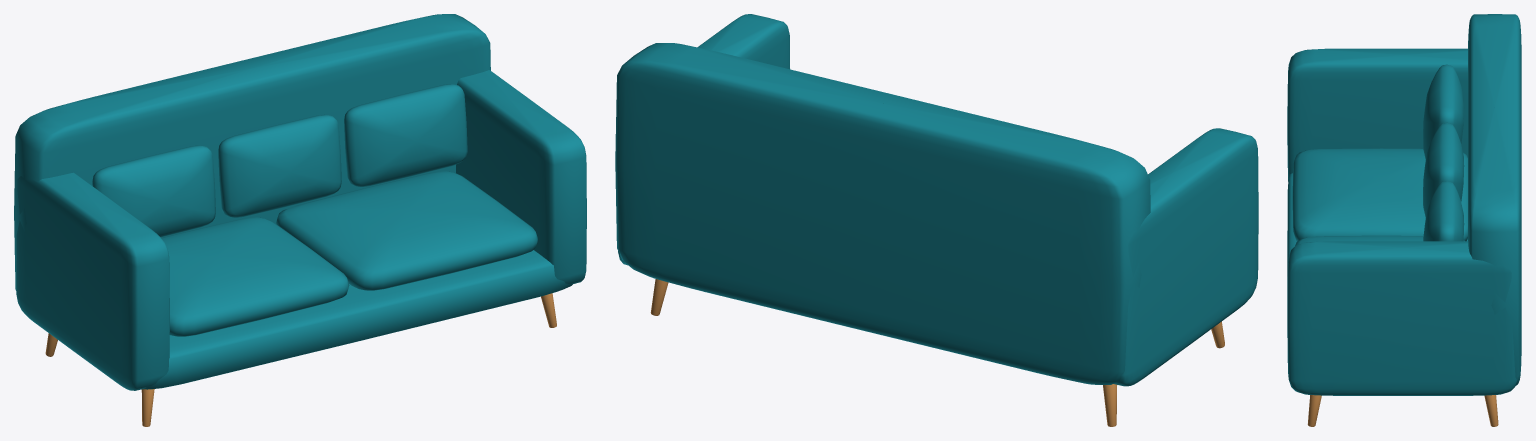
The model's file is sofa_moldura_turquesa_escuro.glb.
3 renders of one model, left to right at view 1: azimuth 30°, elevation 25°; view 2: azimuth 150°, elevation 25°; view 3: azimuth 270°, elevation 25°, orthographic. The views are drawn at different scales.
Parts seen in each view (by area): view 1: sofa_moldura_turquesa_escuro; view 2: sofa_moldura_turquesa_escuro; view 3: sofa_moldura_turquesa_escuro.
Part boxes in pixels (x1,y1,x2,y2): sofa_moldura_turquesa_escuro: [14, 14, 586, 426]; sofa_moldura_turquesa_escuro: [615, 14, 1258, 426]; sofa_moldura_turquesa_escuro: [1287, 14, 1521, 426].
Size of the model in its own units: 1.85 by 0.9217 by 0.87.
Materials: 1 (1 with a texture image).
